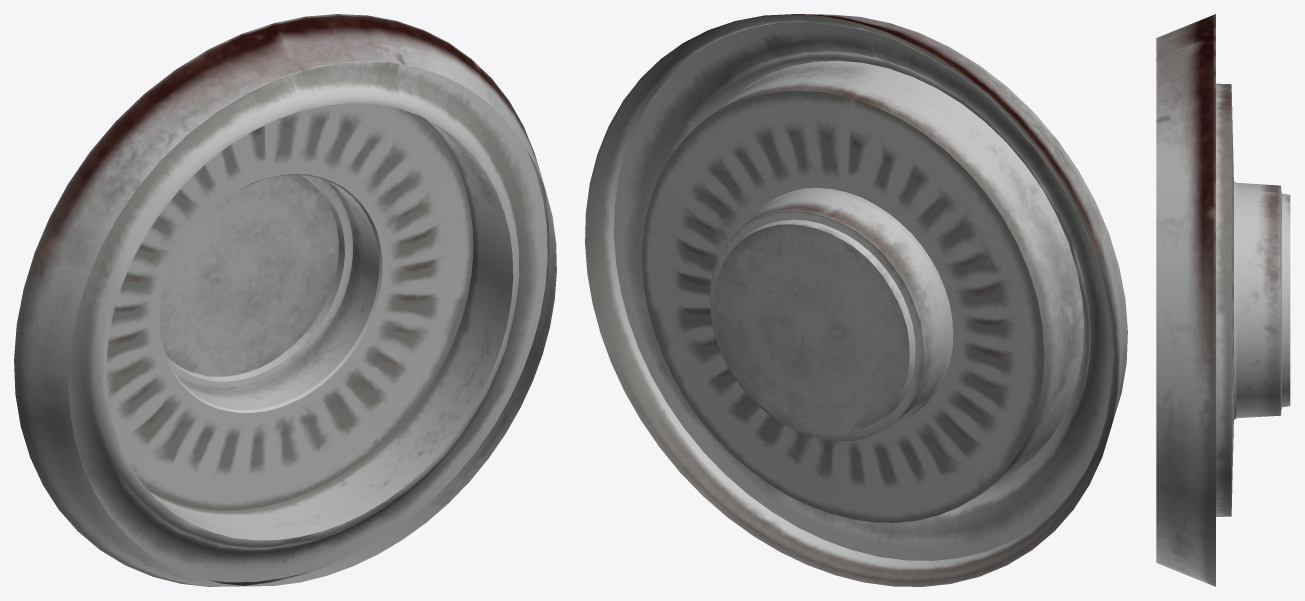
The model's file is Prop_Rim_5.fbx.
3 views of the same model, side by side, from view 1: azimuth 30°, elevation 25°; view 2: azimuth 150°, elevation 25°; view 3: azimuth 270°, elevation 25° (orthographic). The views are drawn at different scales.
Parts seen in each view (by area): view 1: Prop_Rim_5; view 2: Prop_Rim_5; view 3: Prop_Rim_5.
Boxes of the visible parts, <box> form: Prop_Rim_5: <box>14,14,556,586</box>; Prop_Rim_5: <box>585,14,1127,586</box>; Prop_Rim_5: <box>1156,14,1290,586</box>.
Size of the model in its own units: 30.84 by 30.83 by 7.21.
